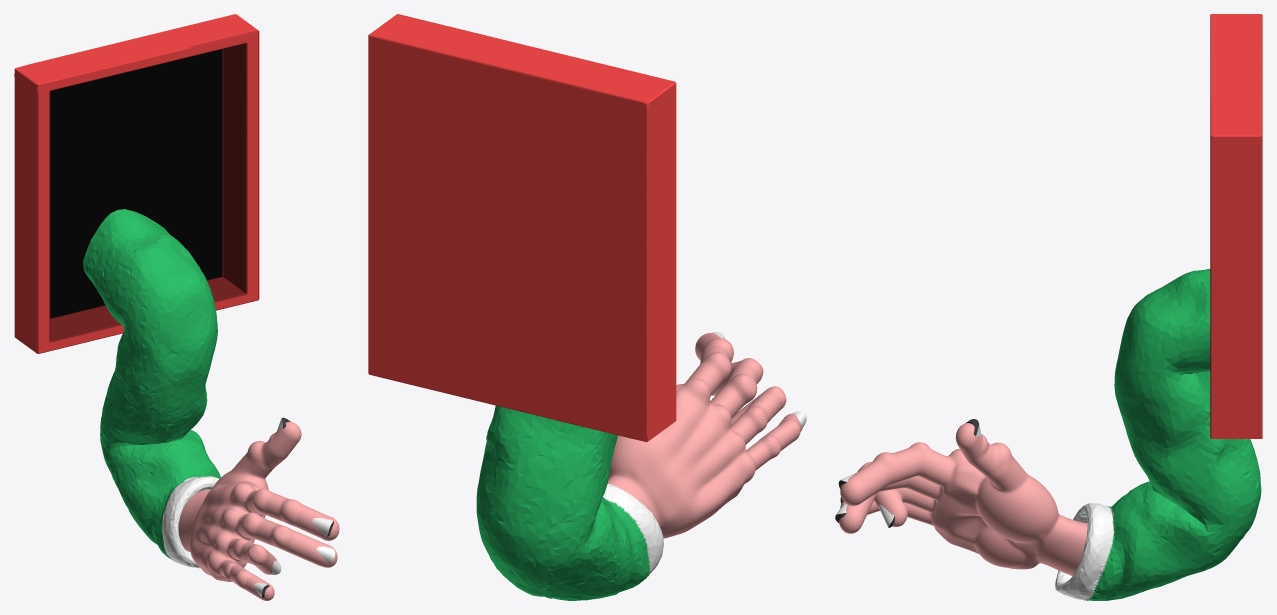
3 renders of one model, left to right at view 1: azimuth 30°, elevation 25°; view 2: azimuth 150°, elevation 25°; view 3: azimuth 270°, elevation 25°, orthographic. The views are drawn at different scales.
Visible parts, largest first — view 1: Box, Sleeve, Hand, Cylinder; view 2: Box, Sleeve, Hand; view 3: Sleeve, Box, Hand, Cylinder.
Part boxes in pixels (x1,y1,x2,y2): Box: (14, 14, 259, 353); Sleeve: (83, 209, 220, 568); Hand: (178, 421, 339, 600); Cylinder: (253, 417, 335, 597); Box: (368, 14, 676, 442); Sleeve: (476, 405, 663, 600); Hand: (607, 333, 802, 538); Sleeve: (1055, 269, 1261, 600); Box: (1210, 14, 1262, 438); Hand: (839, 423, 1087, 575); Cylinder: (835, 419, 981, 527).
Bounding box in the file's own units: 0.7342 × 1.47 × 1.08.
